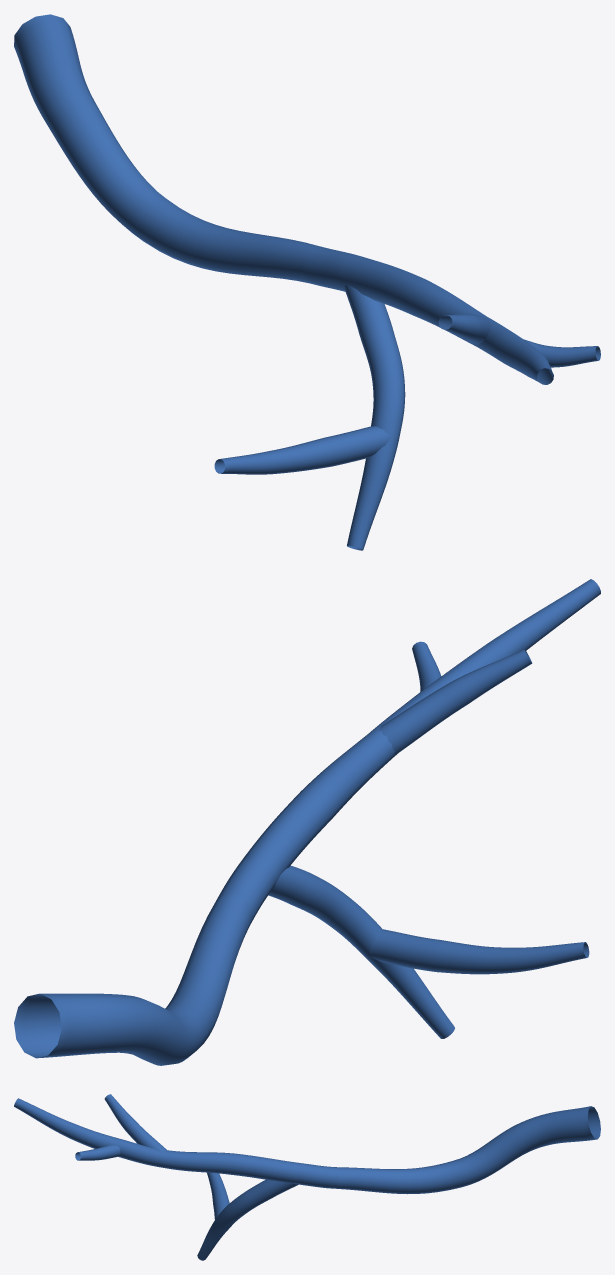
The picture shows the model from 3 angles, top to bottom: view 1: azimuth 30°, elevation 25°; view 2: azimuth 150°, elevation 25°; view 3: azimuth 270°, elevation 25°; orthographic projection. The views are drawn at different scales.
Visible parts, largest first — view 1: 右肺尖静脉; view 2: 右肺尖静脉; view 3: 右肺尖静脉.
Part boxes in pixels (left/top/right/bottom): 右肺尖静脉: left=14, top=14, right=600, bottom=550; 右肺尖静脉: left=14, top=579, right=600, bottom=1065; 右肺尖静脉: left=14, top=1094, right=600, bottom=1260.
Bounding box in the file's own units: 0.0434 × 0.045 × 0.1423.
